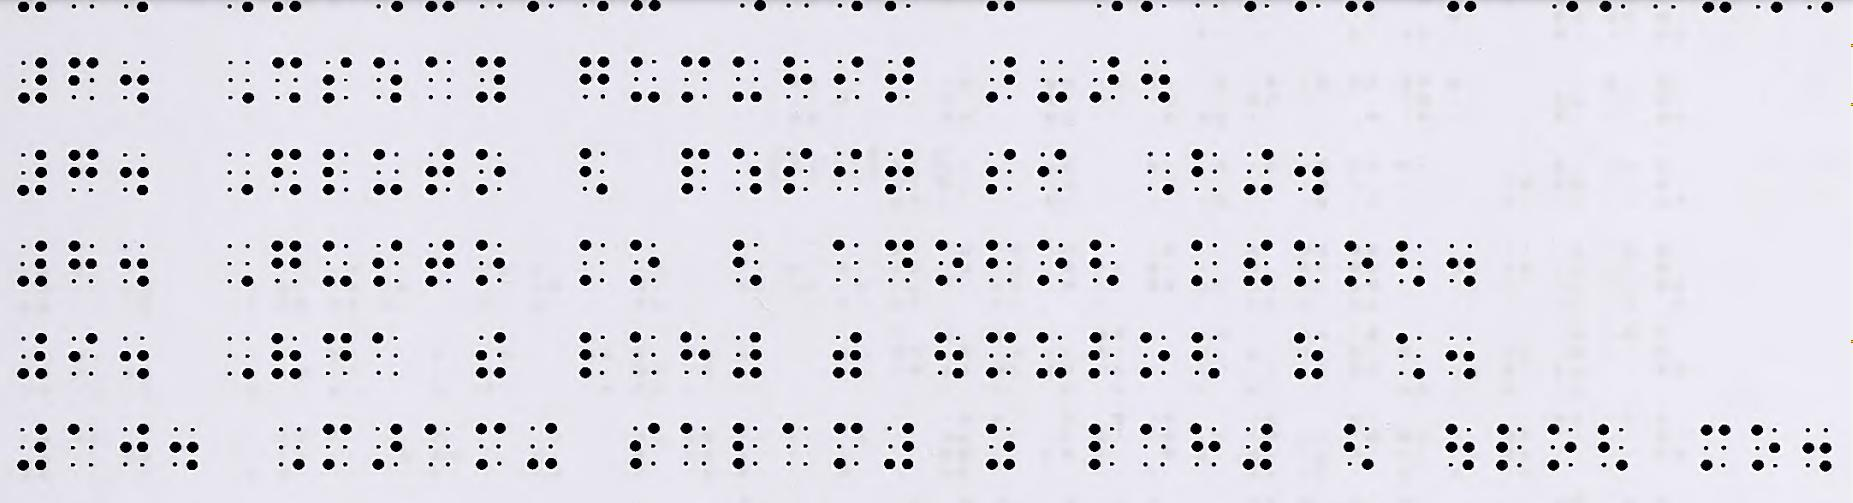capital_sign: (225, 55, 256, 105), (225, 240, 254, 289), (1145, 146, 1175, 196), (225, 148, 253, 196), (278, 424, 305, 469), (226, 334, 253, 378)
digit_0: (121, 424, 148, 470)
digit_1: (66, 422, 97, 470)
digit_6: (67, 55, 100, 102)
digit_7: (67, 148, 98, 195)
digit_8: (66, 239, 99, 286)
digit_9: (67, 331, 98, 380)
letter_B: (1191, 148, 1218, 194)
letter_G: (272, 240, 301, 288)
letter_M: (321, 423, 353, 470)
letter_a: (424, 54, 454, 104), (680, 422, 710, 469), (781, 423, 810, 469), (372, 331, 399, 378), (630, 331, 657, 377), (424, 423, 451, 469), (832, 239, 859, 283), (1140, 424, 1165, 469)
letter_b: (986, 239, 1013, 285)
letter_d: (884, 239, 915, 286), (323, 331, 352, 377)
letter_g: (578, 55, 610, 104)
letter_h: (678, 329, 711, 377), (782, 54, 813, 105), (1190, 422, 1220, 466)
letter_i: (833, 146, 863, 196), (1036, 148, 1066, 196), (833, 54, 864, 100)
letter_k: (1190, 239, 1221, 287), (1293, 239, 1321, 286), (579, 239, 605, 286)
letter_l: (321, 146, 352, 196), (1087, 329, 1117, 379), (1086, 423, 1116, 471), (733, 422, 760, 471), (1496, 422, 1523, 470), (579, 332, 605, 379)
letter_m: (680, 54, 710, 104), (986, 329, 1016, 379), (833, 422, 864, 471), (1701, 423, 1731, 472), (475, 422, 506, 470)
letter_o: (474, 146, 508, 197), (629, 237, 662, 287), (1138, 331, 1171, 380), (1545, 422, 1576, 472), (474, 239, 506, 287), (1036, 239, 1068, 287), (1749, 423, 1781, 471), (1344, 239, 1374, 287), (935, 237, 964, 287)
letter_p: (681, 148, 710, 196)
letter_s: (320, 57, 355, 106), (628, 422, 662, 470), (782, 146, 814, 196), (987, 146, 1016, 197), (372, 241, 402, 289)
letter_t: (423, 146, 456, 197), (884, 148, 916, 197), (884, 53, 915, 104), (425, 239, 455, 288)
letter_u: (730, 54, 763, 104), (371, 146, 402, 197), (1036, 329, 1067, 379), (631, 54, 661, 104), (323, 239, 352, 288)
letter_y: (475, 53, 507, 104)
number_sign: (15, 240, 48, 287), (17, 146, 47, 197), (17, 423, 47, 472), (18, 55, 47, 106), (18, 331, 47, 379)
one_cell_alphabet_sa: (1293, 332, 1325, 381), (984, 423, 1016, 471)
one_cell_non_alphabet_araw: (1088, 53, 1119, 106), (984, 55, 1016, 105)
one_cell_non_alphabet_kanila: (1394, 332, 1425, 379)
one_cell_non_alphabet_na: (832, 329, 863, 380)
one_cell_non_alphabet_ng: (577, 146, 609, 195), (730, 239, 762, 287)
one_cell_part_word_an: (372, 54, 403, 106), (732, 148, 762, 197)
one_cell_part_word_ang: (476, 331, 507, 380), (1243, 239, 1273, 286)
one_cell_part_word_ar: (373, 423, 403, 471)
one_cell_part_word_at: (732, 331, 763, 380), (884, 422, 915, 470), (1242, 424, 1274, 470)
one_cell_part_word_han: (269, 332, 301, 380)
one_cell_part_word_ing: (527, 423, 560, 470), (1244, 146, 1274, 196)
one_cell_part_word_mag: (269, 55, 303, 104)
one_cell_part_word_nag: (269, 148, 304, 196)
one_cell_part_word_ng: (1190, 331, 1222, 380), (1597, 423, 1628, 472), (1342, 423, 1373, 471), (1088, 239, 1119, 286), (1396, 239, 1425, 287)
one_cell_part_word_tu: (1443, 422, 1475, 470), (934, 331, 964, 380)
